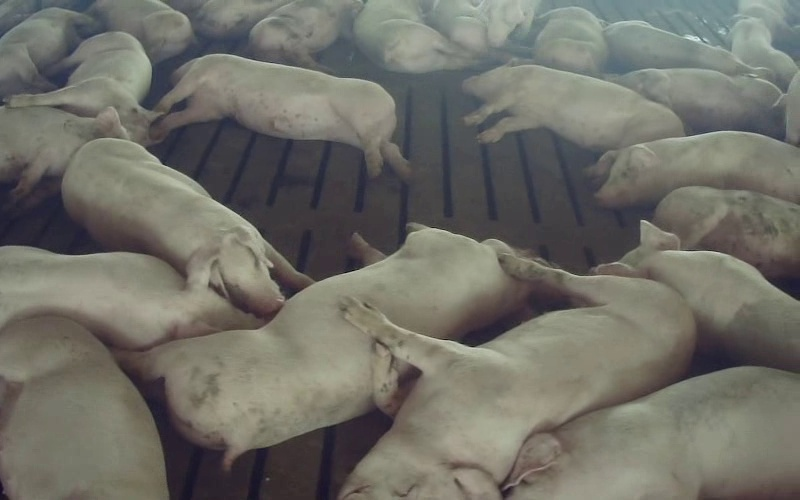pig: (115, 224, 529, 466), (341, 254, 695, 499), (62, 138, 311, 317), (151, 55, 411, 178), (594, 221, 799, 370), (462, 65, 683, 151), (8, 32, 157, 145), (587, 131, 799, 208), (653, 186, 799, 278), (0, 107, 128, 211), (613, 68, 784, 139), (0, 7, 97, 99), (604, 21, 765, 76), (353, 0, 474, 73), (249, 0, 362, 71), (91, 0, 193, 63), (730, 17, 797, 90), (534, 7, 607, 74)
